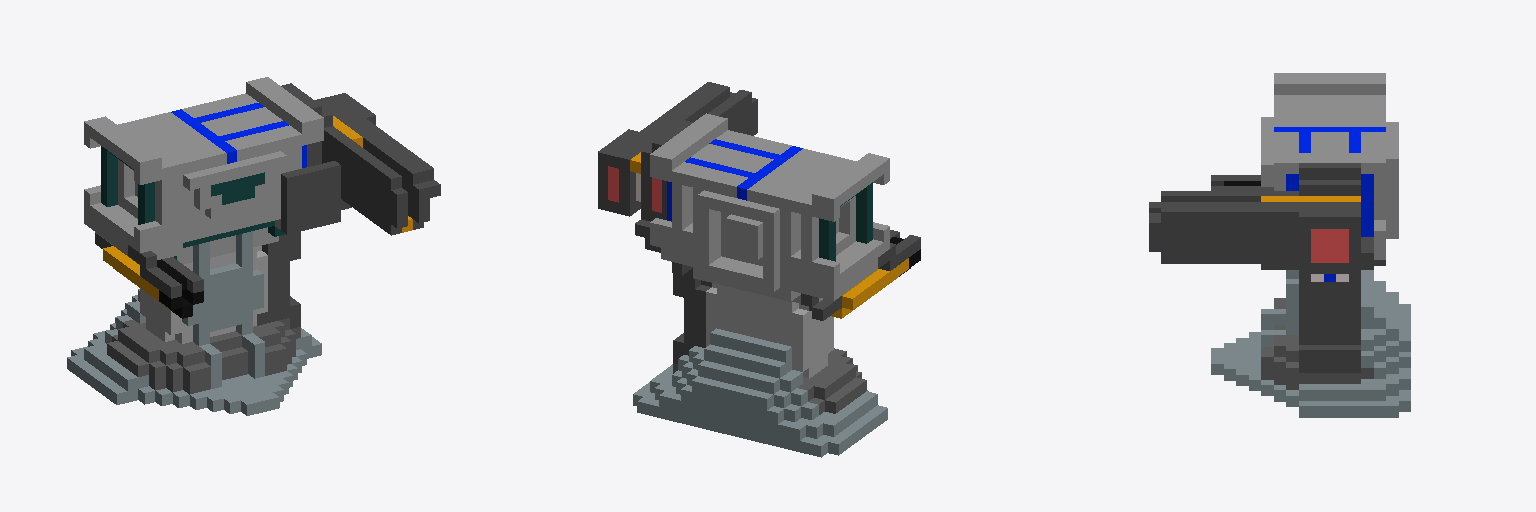
3 renders of one model, left to right at view 1: azimuth 30°, elevation 25°; view 2: azimuth 150°, elevation 25°; view 3: azimuth 270°, elevation 25°, orthographic.
Parts seen in each view (by area): view 1: HeavyMech; view 2: HeavyMech; view 3: HeavyMech.
Boxes of the visible parts, x1,y1,x2,y2 form: HeavyMech: [67, 77, 440, 415]; HeavyMech: [598, 82, 920, 457]; HeavyMech: [1149, 73, 1410, 417].
Bounding box in the file's own units: 2.4 × 2.2 × 2.1.
Materials: 1 (1 with a texture image).